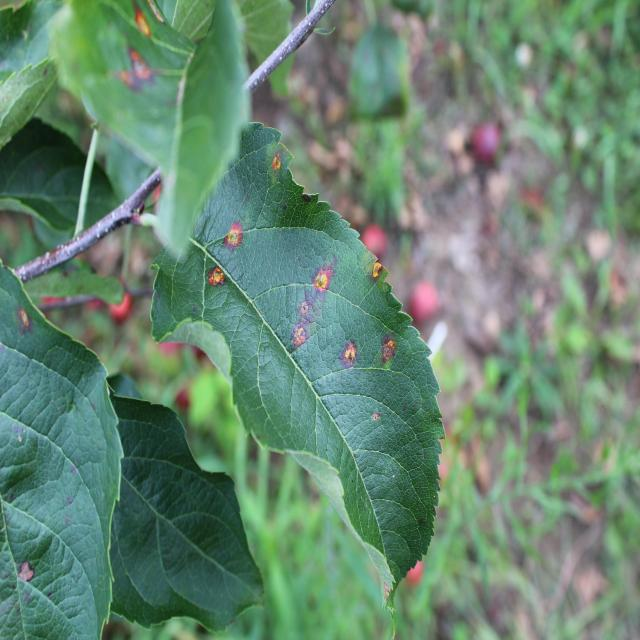Rust: (123, 0, 155, 41), (310, 260, 341, 300), (13, 293, 35, 346), (286, 321, 317, 356), (337, 336, 362, 374), (367, 252, 387, 293), (207, 259, 231, 293), (224, 215, 246, 252), (379, 330, 395, 379), (268, 141, 288, 177), (288, 291, 311, 321)
